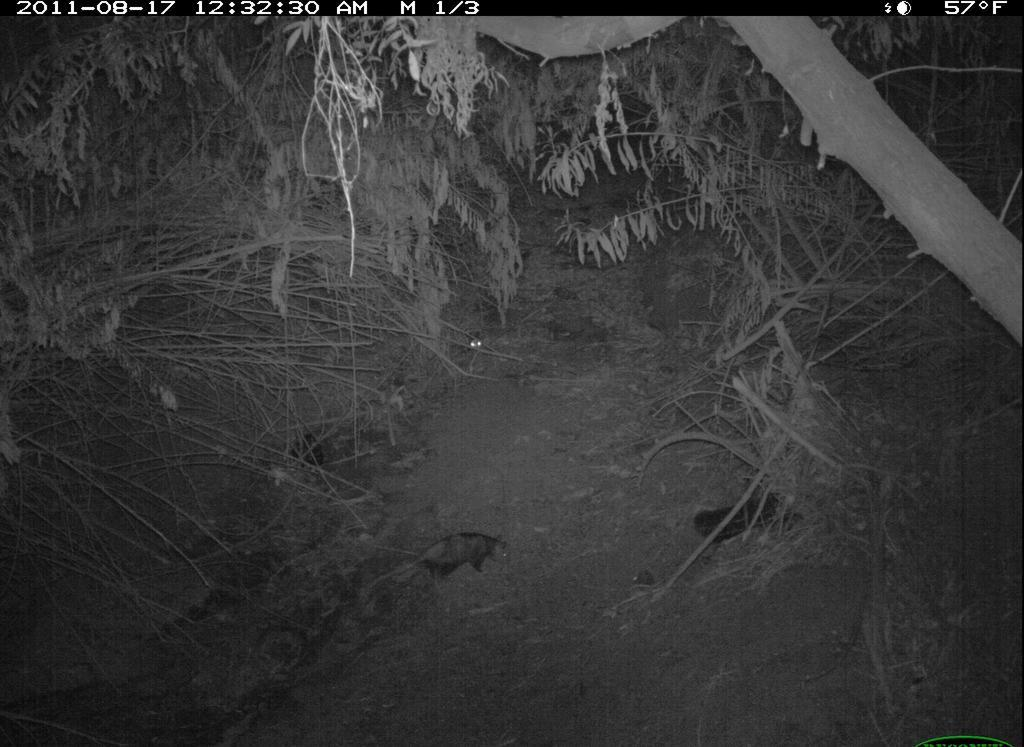opossum: (358, 510, 543, 597)
